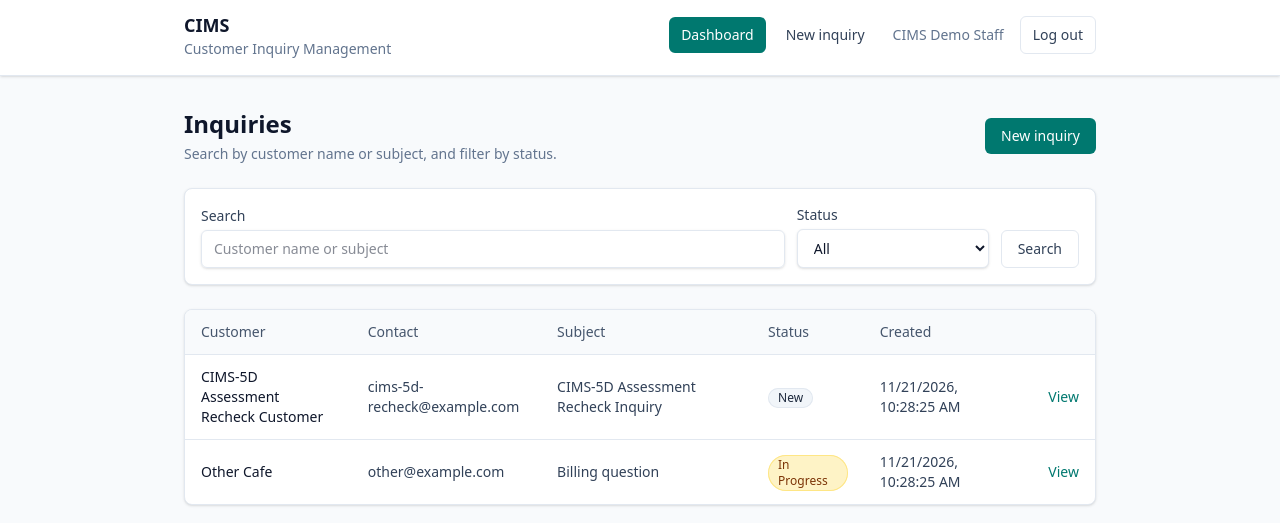
Dashboard › searches by customer name or subject
Expected: the text "CIMS-5D Assessment Recheck Customer" is shown, [185, 354, 352, 440]
Expected: the text "Other Cafe" is shown, [185, 440, 352, 504]
Type "Recheck" into the search field labelled "Search". click: (493, 249)
box: [201, 230, 785, 268]
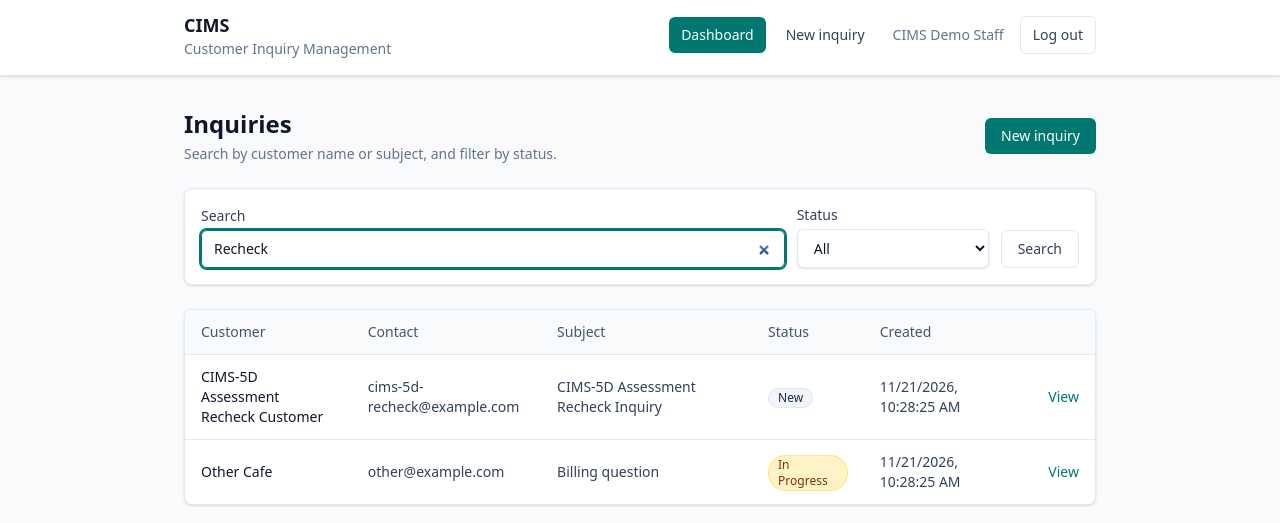
Click the button "Search". click: (1040, 249)
box: [1001, 230, 1079, 268]
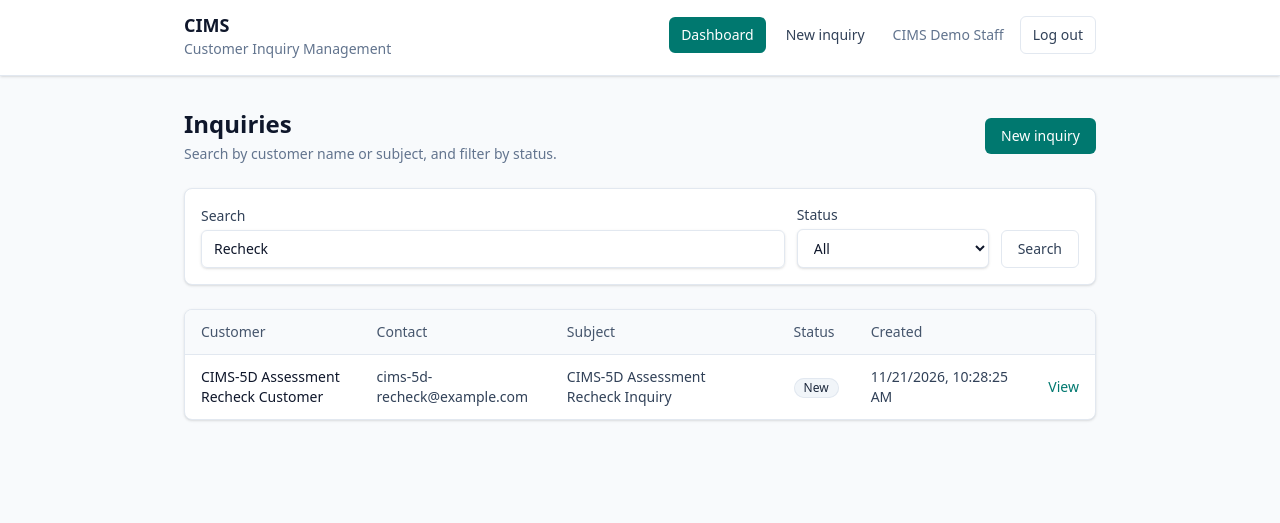
Expected: the text "CIMS-5D Assessment Recheck Customer" is shown, [185, 354, 361, 419]
Expected: the text "Other Cafe" is not shown
